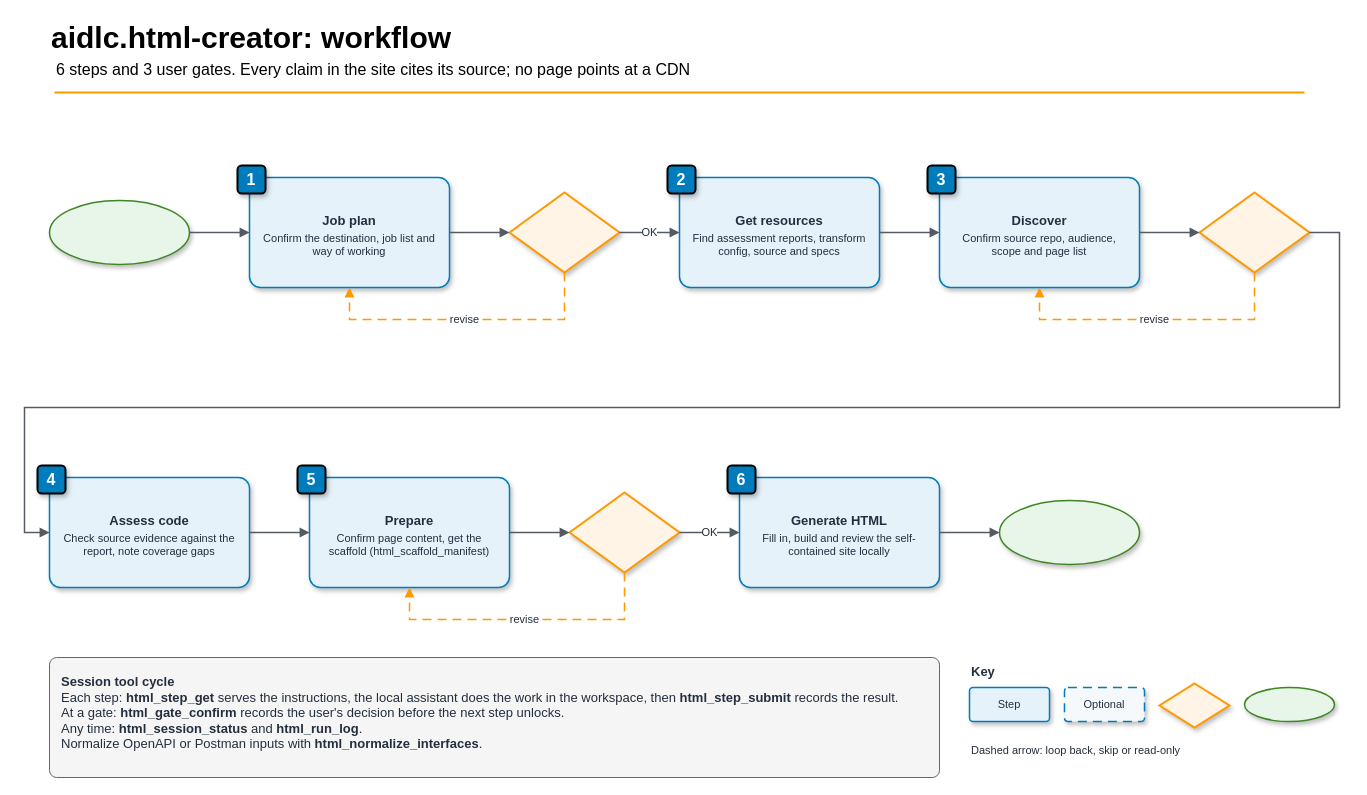
This 1367x795 diagram has some shape labels left out. Here are the shapes that lost their labels. From the top down, the centre of each, then its label:
the point at 120,233: Start html_start
the point at 565,233: Gate 1 user OK
the point at 1255,233: Gate 2 user OK
the point at 625,533: Gate 3 user OK
the point at 1070,533: Done
the point at 1195,706: Gate
the point at 1290,705: Start / end
